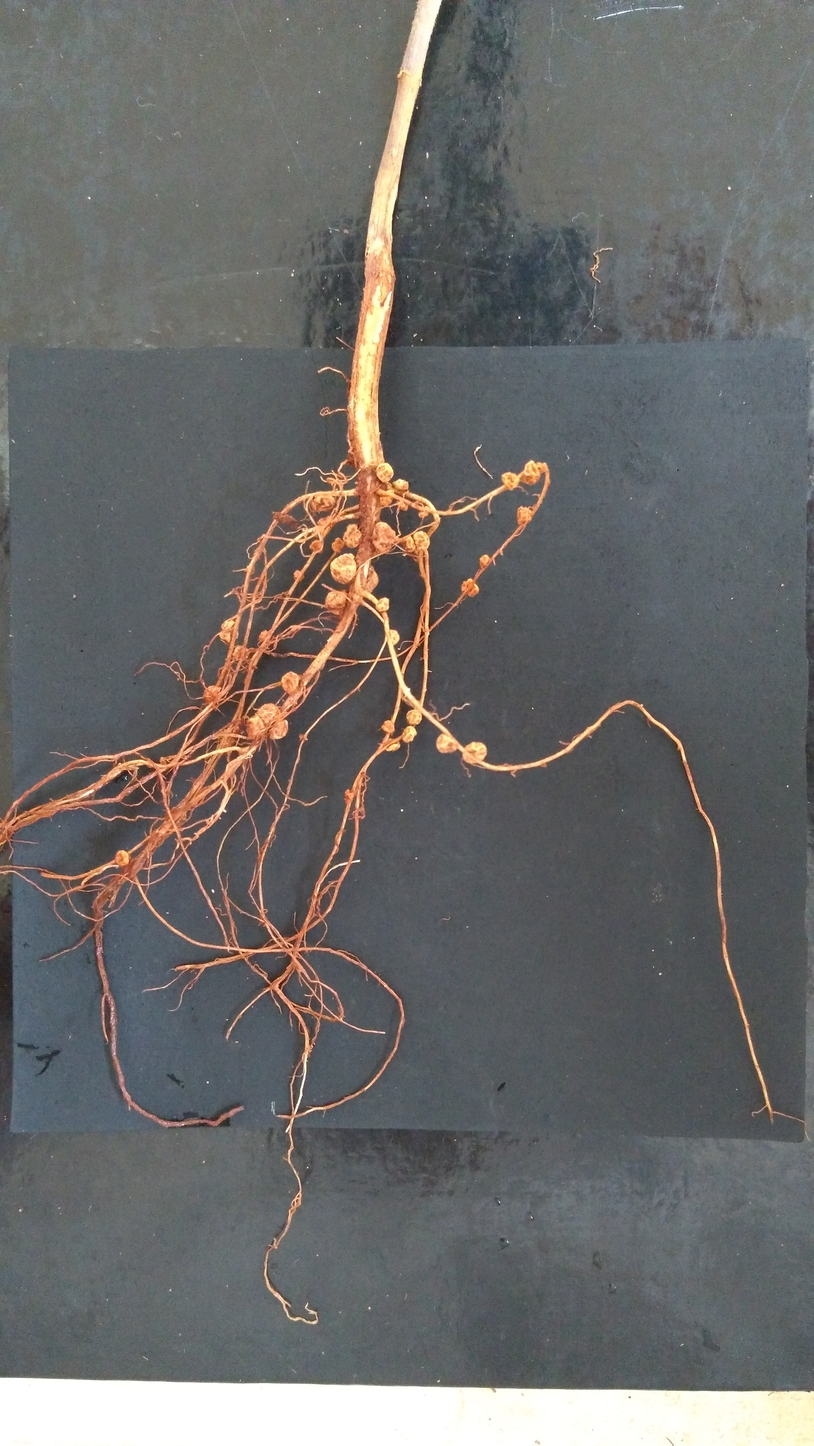nodule: (247, 703, 288, 740), (329, 553, 356, 585), (372, 521, 398, 553), (325, 589, 348, 617), (462, 741, 487, 765), (309, 492, 336, 512), (523, 460, 544, 485), (362, 566, 380, 594), (202, 684, 223, 708), (219, 620, 239, 645), (281, 671, 301, 696), (272, 510, 298, 529), (436, 733, 458, 755), (343, 524, 363, 548), (379, 480, 394, 508), (375, 462, 394, 483), (413, 530, 430, 551), (461, 578, 479, 597), (501, 472, 519, 490), (232, 645, 250, 661), (517, 506, 532, 524), (406, 709, 422, 725), (402, 726, 417, 743), (400, 536, 415, 553), (383, 737, 401, 751), (386, 629, 400, 647), (115, 850, 130, 865), (417, 500, 430, 517), (331, 537, 344, 553), (309, 540, 323, 554), (392, 479, 409, 490), (317, 515, 334, 526), (381, 720, 395, 733), (376, 597, 389, 611), (258, 630, 272, 643), (312, 525, 326, 537), (292, 569, 304, 582), (479, 554, 489, 569), (396, 499, 408, 511), (344, 789, 354, 803), (245, 565, 256, 575)
